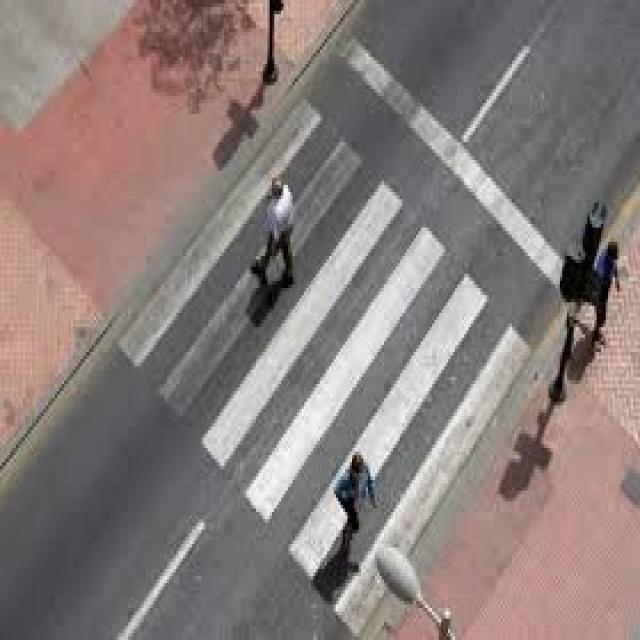Crosswalk: (112, 94, 536, 640)
